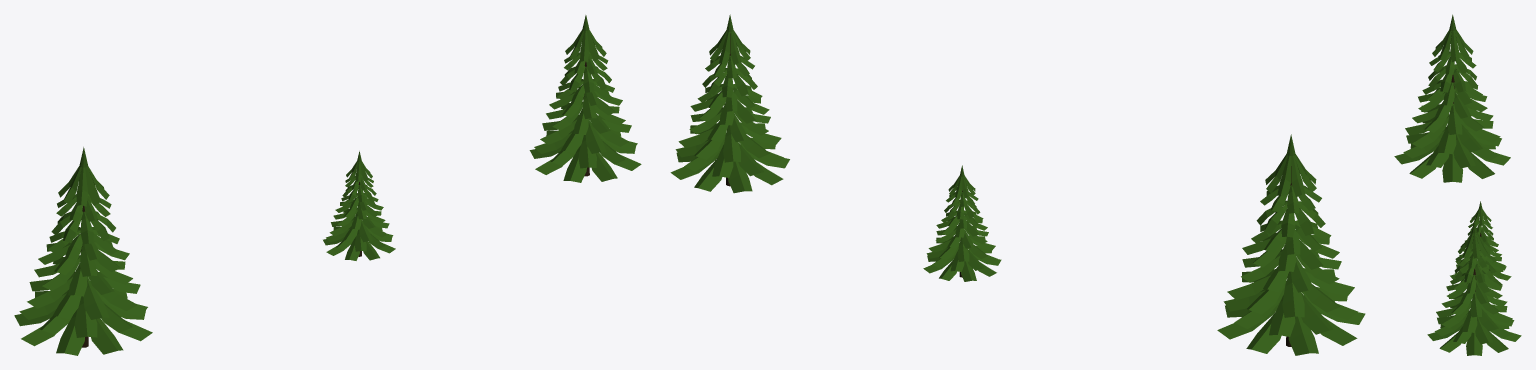
Rendered from decor11.obj.
The picture shows the model from 3 angles, left to right: view 1: azimuth 30°, elevation 25°; view 2: azimuth 150°, elevation 25°; view 3: azimuth 270°, elevation 25°; orthographic projection. The views are drawn at different scales.
Parts seen in each view (by area): view 1: Fir-tree_Cylinder.001, Fir-tree_Cylinder.003, Fir-tree_Cylinder.002; view 2: Fir-tree_Cylinder.001, Fir-tree_Cylinder.003, Fir-tree_Cylinder.002; view 3: Fir-tree_Cylinder.001, Fir-tree_Cylinder.003, Fir-tree_Cylinder.002.
Boxes of the visible parts, x1,y1,x2,y2 form: Fir-tree_Cylinder.001: [14, 147, 152, 355]; Fir-tree_Cylinder.003: [529, 15, 641, 182]; Fir-tree_Cylinder.002: [323, 151, 395, 260]; Fir-tree_Cylinder.001: [1217, 134, 1365, 355]; Fir-tree_Cylinder.003: [670, 14, 789, 193]; Fir-tree_Cylinder.002: [923, 165, 1001, 281]; Fir-tree_Cylinder.001: [1394, 14, 1510, 182]; Fir-tree_Cylinder.003: [1427, 220, 1521, 355]; Fir-tree_Cylinder.002: [1450, 201, 1511, 285].
Bounding box in the file's own units: 3734 × 1129 × 811.
